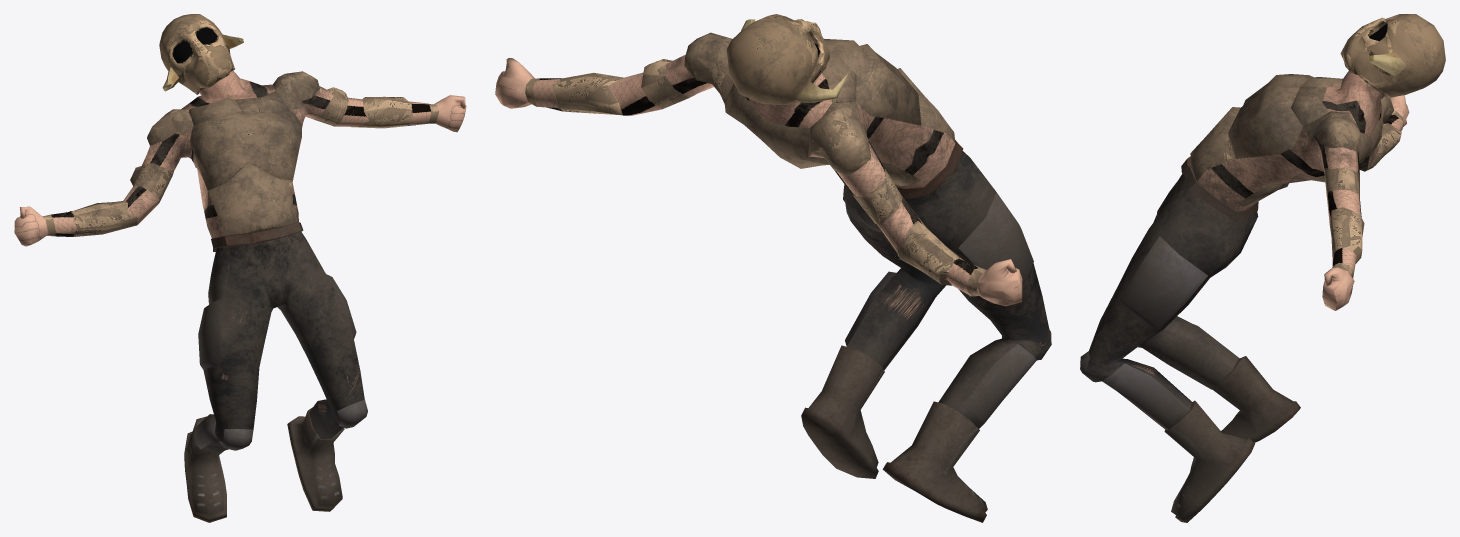
The model's file is Anim_morir_npc1.0021.obj.
3 views of the same model, side by side, from view 1: azimuth 30°, elevation 25°; view 2: azimuth 150°, elevation 25°; view 3: azimuth 270°, elevation 25° (orthographic). The views are drawn at different scales.
Visible parts, largest first — view 1: NPC2; view 2: NPC2; view 3: NPC2.
Boxes of the visible parts, x1,y1,x2,y2 form: NPC2: [14, 14, 466, 522]; NPC2: [495, 14, 1051, 522]; NPC2: [1080, 14, 1445, 522].
Bounding box in the file's own units: 7.74 × 7.48 × 5.14.
